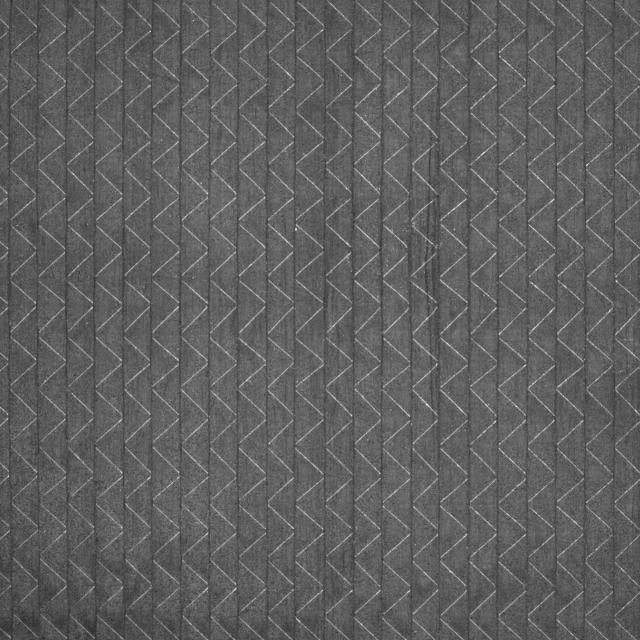carbon-fibre-defect: (410, 193, 444, 365)
